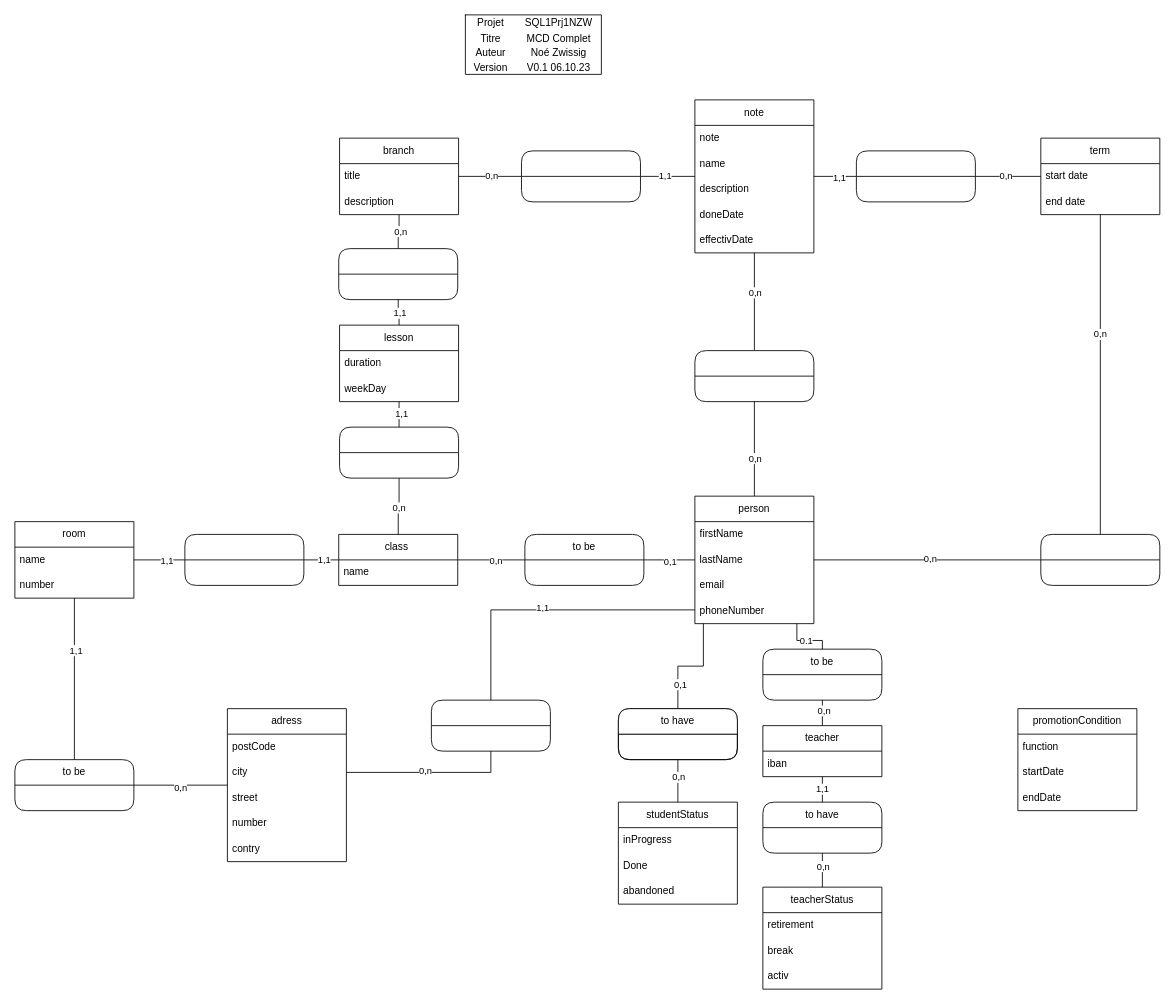
Some shapes in this 1175 by 1005 pixel diagram are drawn without their labels. Each missing label, with the centre of its shape:
to be assigned: the point at 915,176
to concern: the point at 398,274
to give: the point at 399,452
to live: the point at 490,725
to obtain: the point at 754,376
to participate: the point at 1100,559
to study: the point at 244,559
to test: the point at 580,176
